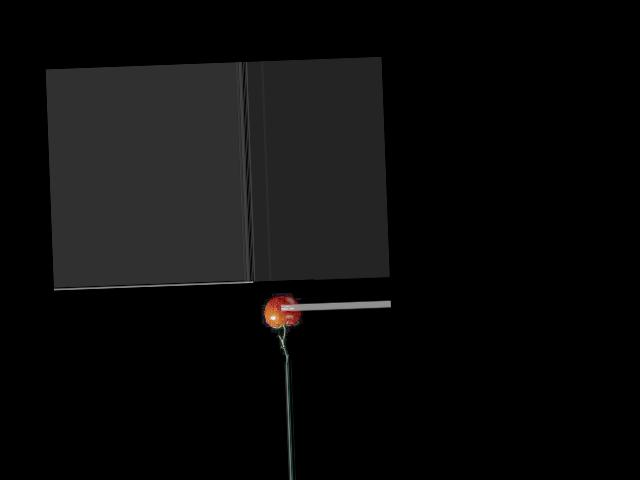tomato: (264, 296, 300, 327)
